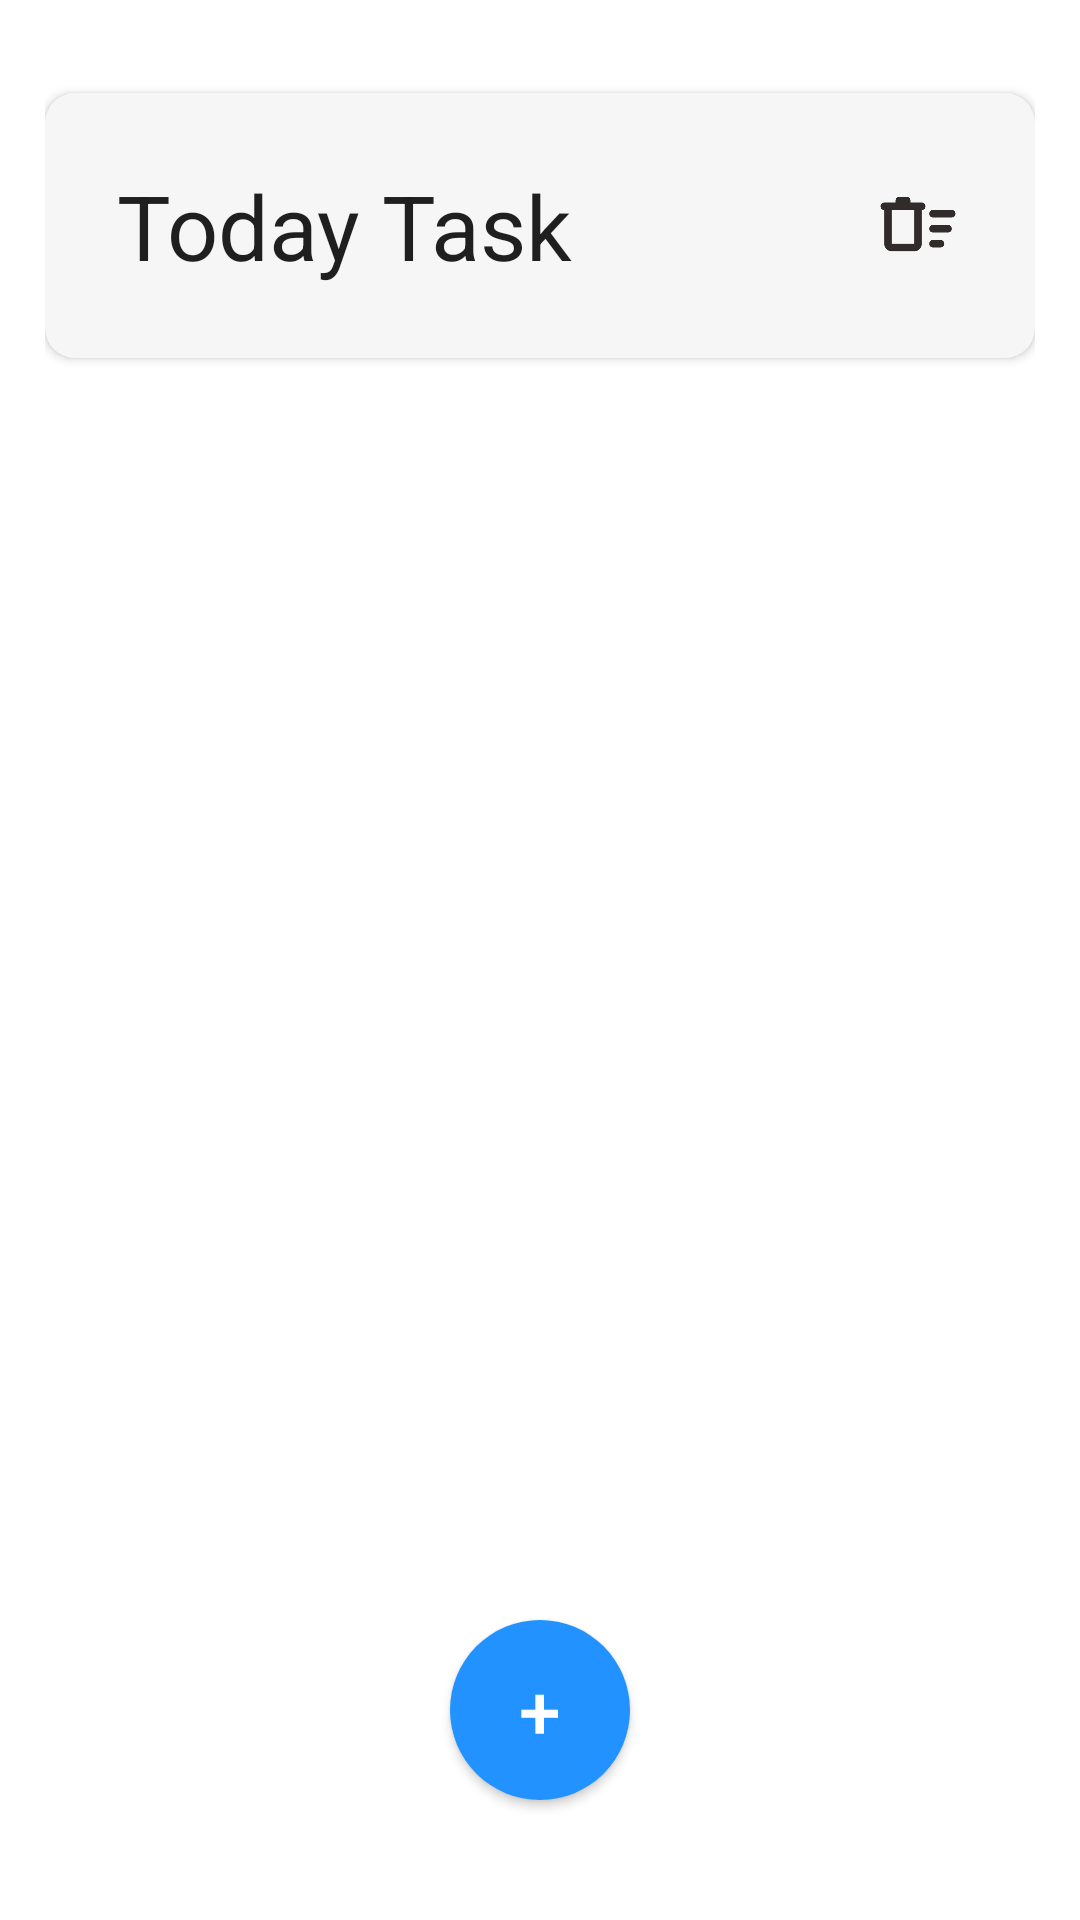

Icon click points for this 1080px x 1920px phone screenshot, format point (x, y):
delete: point (918, 224)
